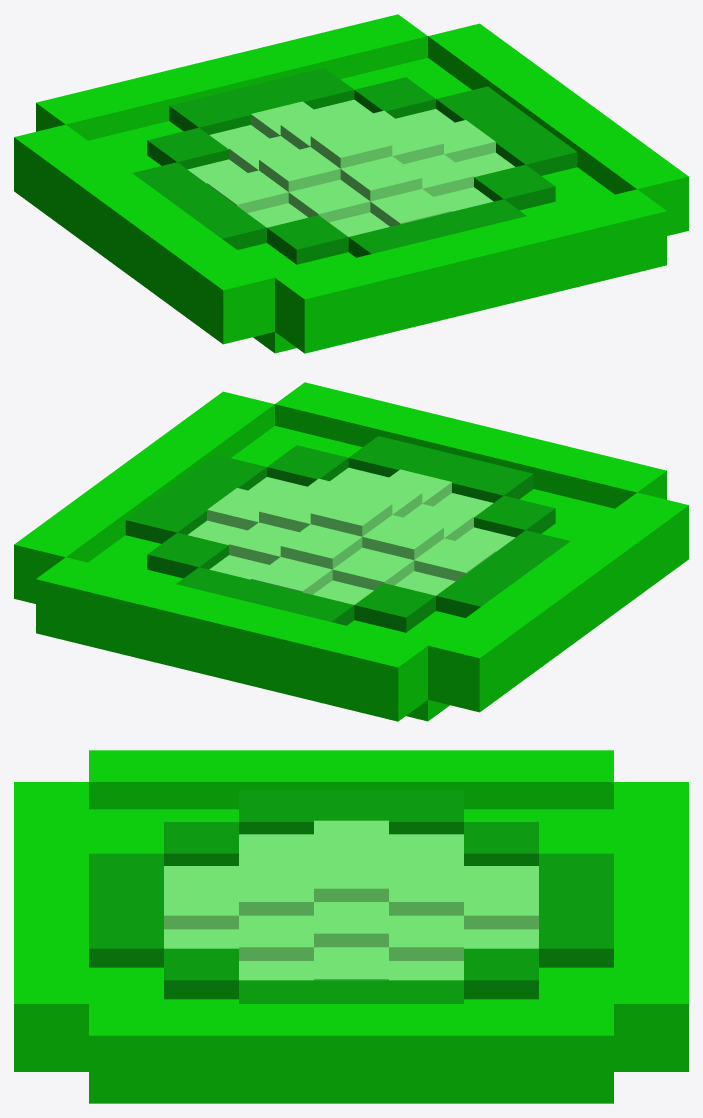
File: GreenBlock_Block.fbx
3 renders of one model, top to bottom at view 1: azimuth 30°, elevation 25°; view 2: azimuth 150°, elevation 25°; view 3: azimuth 270°, elevation 25°, orthographic. The views are drawn at different scales.
Parts seen in each view (by area): view 1: Cube.030, Cube.072, Cube.025; view 2: Cube.030, Cube.072, Cube.025; view 3: Cube.030, Cube.025, Cube.072.
Boxes of the visible parts, <box> form: Cube.030: <box>14,14,688,353</box>; Cube.072: <box>132,68,577,264</box>; Cube.025: <box>187,99,514,236</box>; Cube.030: <box>14,382,688,721</box>; Cube.072: <box>125,436,570,632</box>; Cube.025: <box>188,467,515,604</box>; Cube.030: <box>14,750,688,1103</box>; Cube.025: <box>164,820,538,980</box>; Cube.072: <box>89,790,613,1003</box>.
Size of the model in its own units: 9 by 1.7 by 9.
